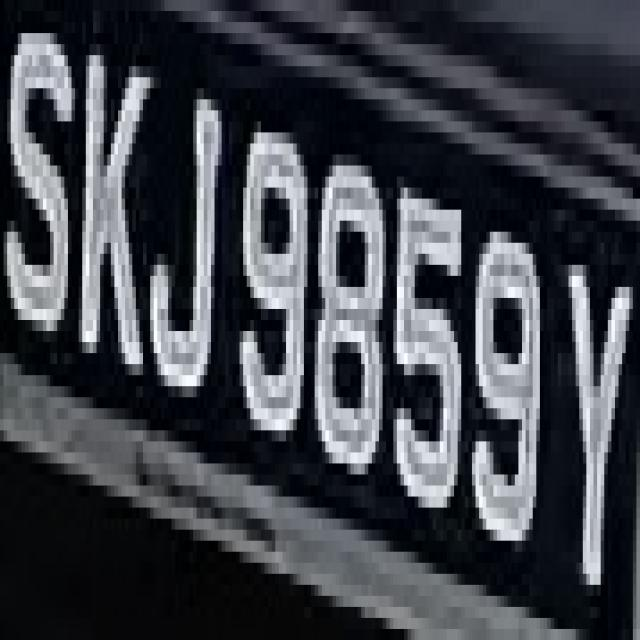5: (390, 143, 468, 530)
8: (308, 110, 386, 508)
9: (461, 176, 551, 585), (240, 110, 311, 474)
J: (150, 44, 225, 408)
K: (79, 33, 150, 408)
S: (4, 11, 75, 364)
Y: (550, 188, 632, 618)
